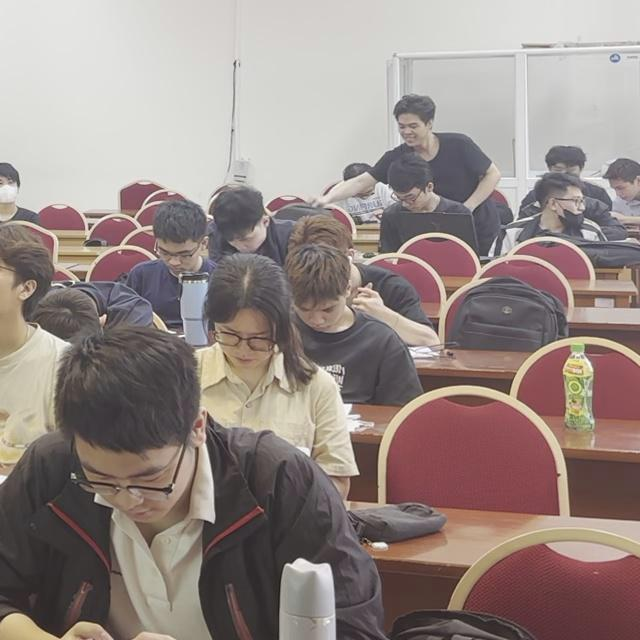Looking away: (75, 431, 190, 527), (217, 302, 275, 369), (296, 284, 347, 333), (158, 235, 203, 277), (558, 182, 586, 222), (228, 222, 265, 252), (397, 112, 427, 147), (395, 184, 430, 213), (608, 175, 639, 202)
